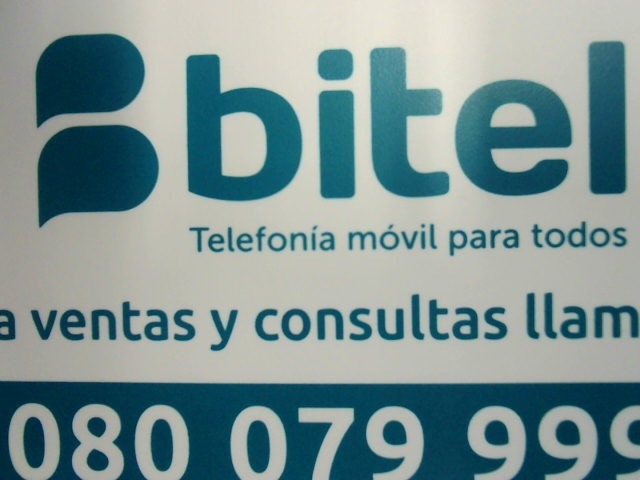BE_bitel: (24, 31, 630, 233)
